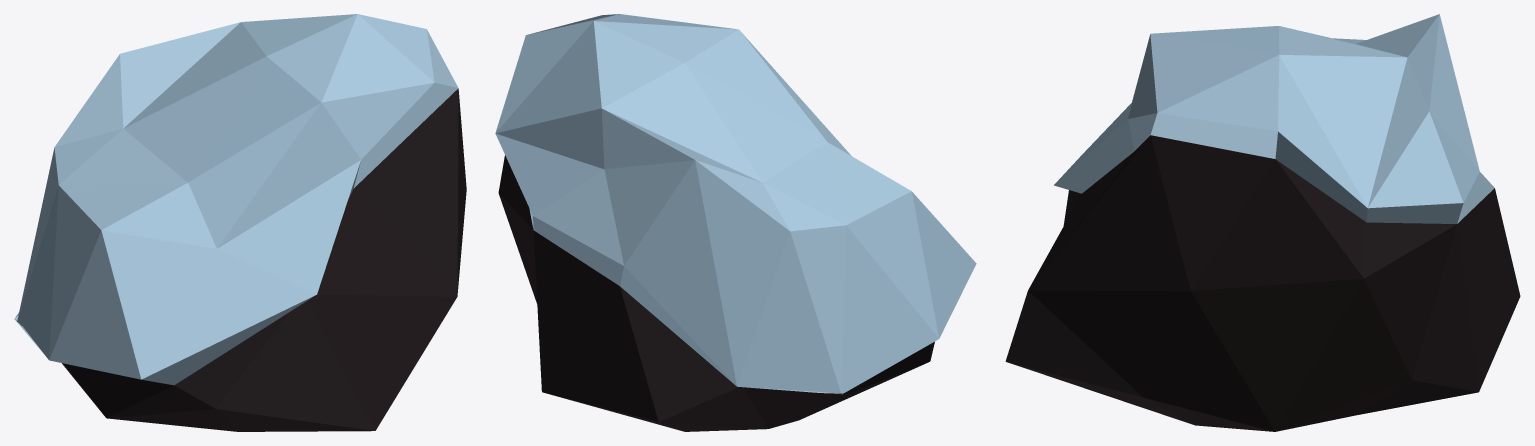
The model's file is rock2.fbx.
The picture shows the model from 3 angles, left to right: view 1: azimuth 30°, elevation 25°; view 2: azimuth 150°, elevation 25°; view 3: azimuth 270°, elevation 25°; orthographic projection. The views are drawn at different scales.
Visible parts, largest first — view 1: rock 2; view 2: rock 2; view 3: rock 2.
Boxes of the visible parts, x1,y1,x2,y2 form: rock 2: (14, 14, 466, 431); rock 2: (495, 14, 976, 431); rock 2: (1005, 14, 1520, 431).
Size of the model in its own units: 217 by 174 by 205.
